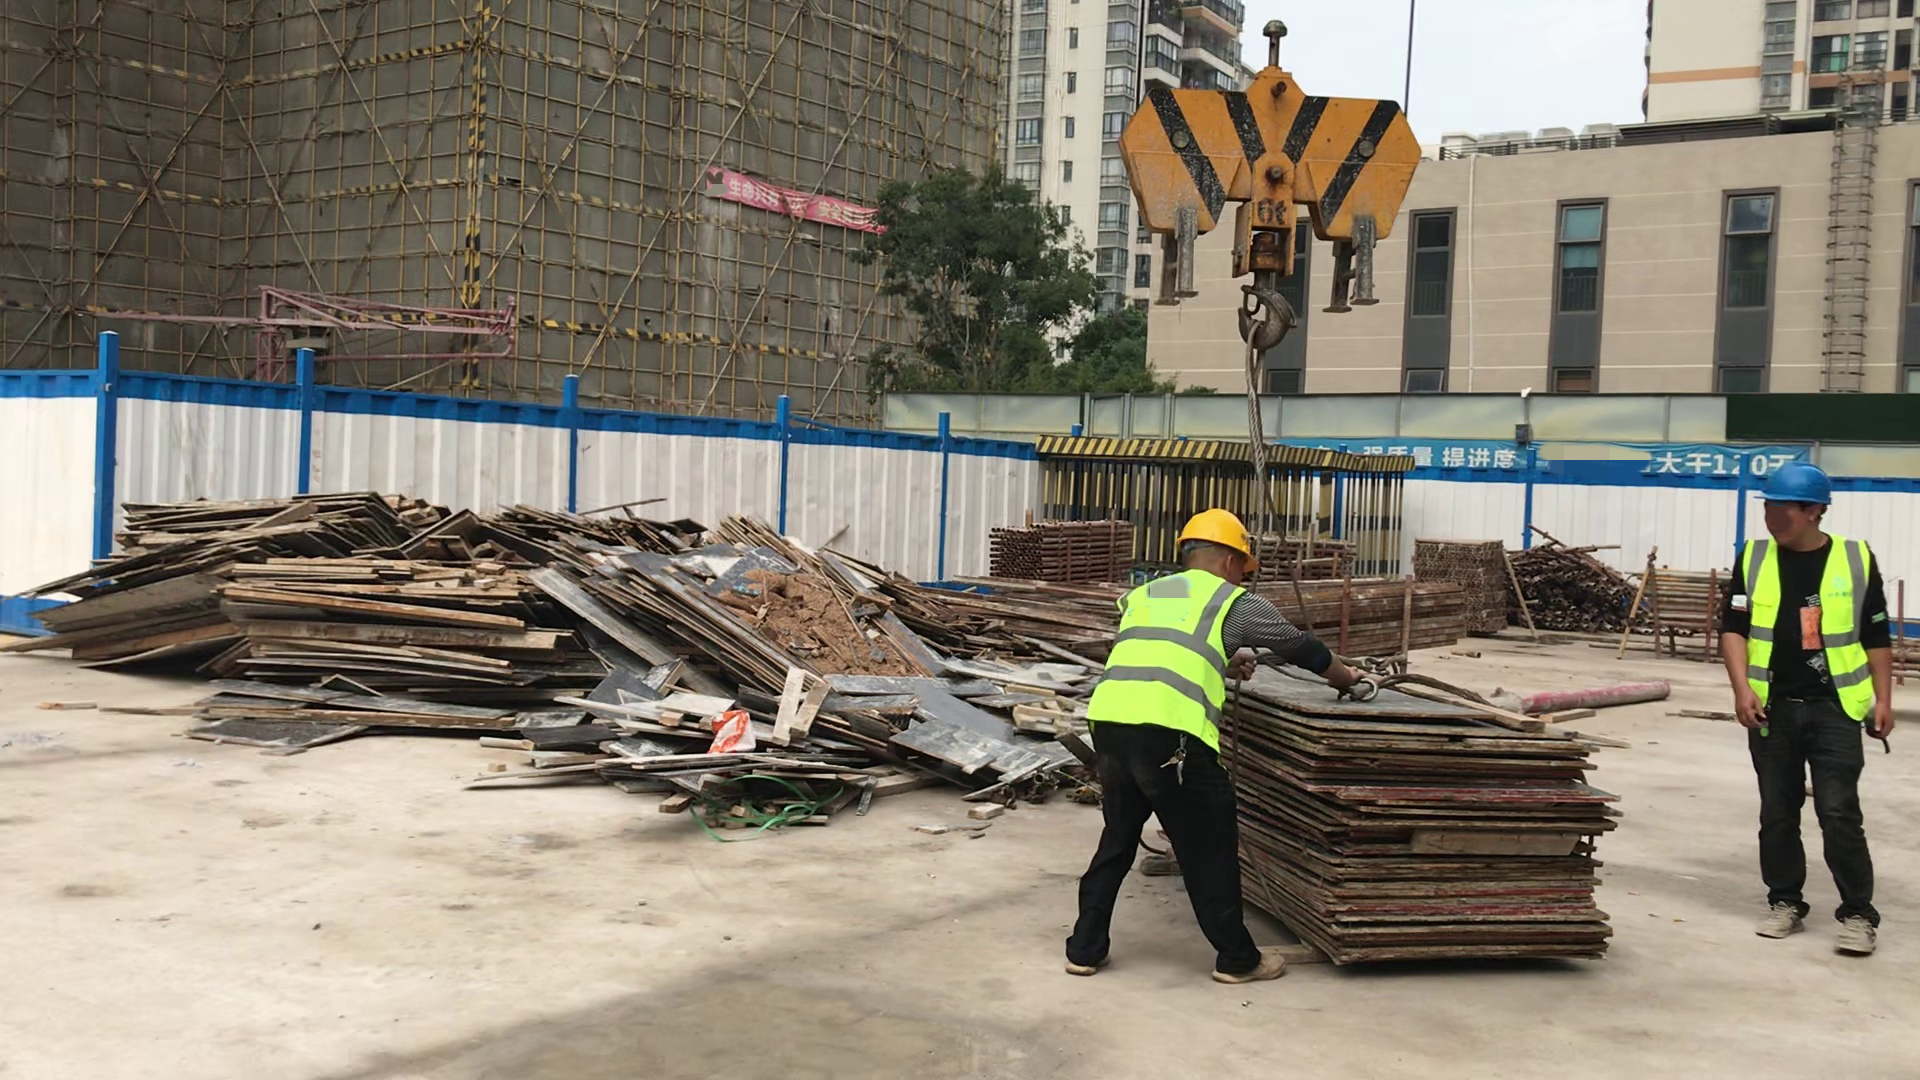board: (1233, 654, 1620, 964)
helmet: (1170, 509, 1261, 573), (1754, 460, 1835, 509)
hook: (1120, 71, 1424, 349)
person: (1054, 509, 1352, 987), (1723, 458, 1897, 964)
scaffold: (1418, 538, 1499, 635), (1000, 524, 1128, 583), (1655, 564, 1720, 629), (1266, 542, 1348, 581)
slogan: (1314, 446, 1810, 472), (704, 160, 877, 230)
vest: (1089, 566, 1232, 761), (1740, 532, 1876, 724)
